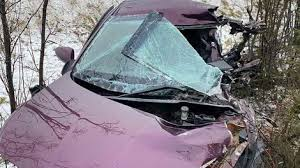car: (22, 6, 260, 167)
